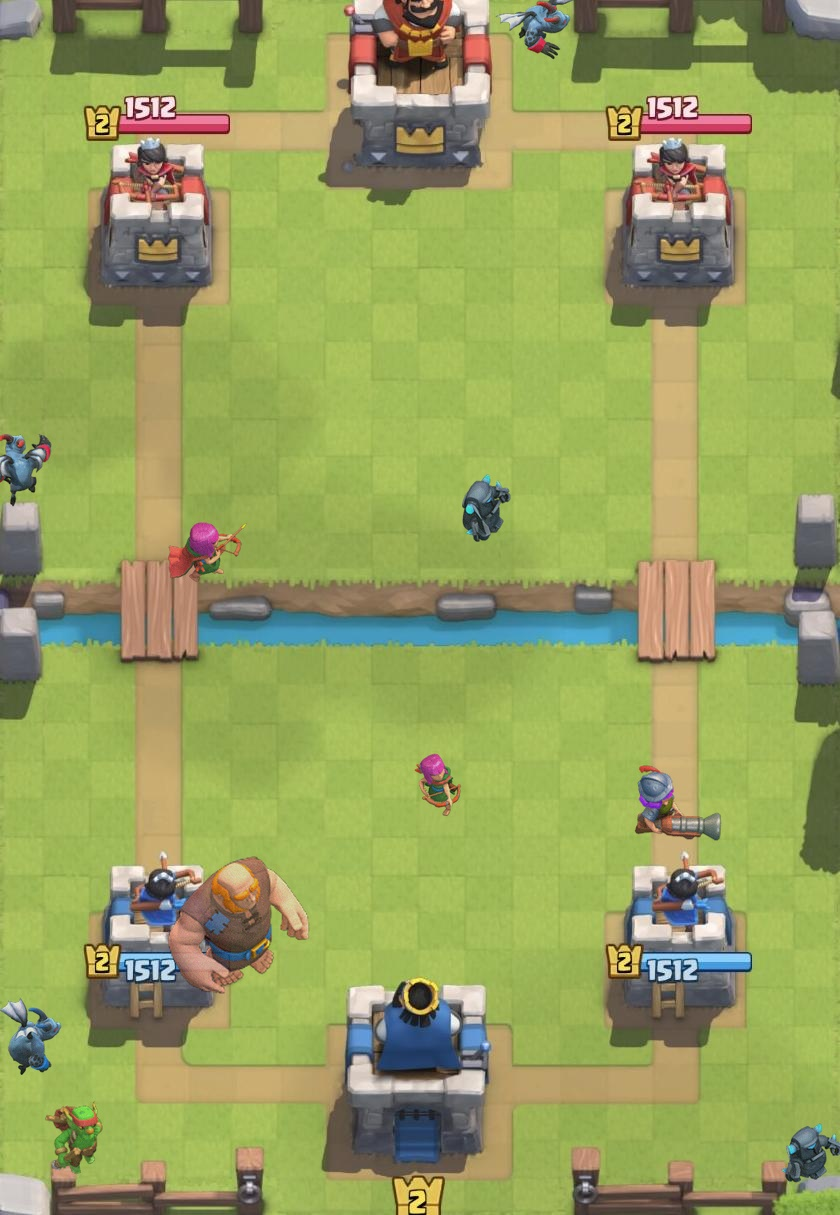archer_enemy: (168, 522, 247, 582), (414, 753, 461, 816)
giant_ally: (167, 856, 310, 994)
mekka_ally: (781, 1123, 840, 1183), (462, 474, 511, 542)
minion_ally: (0, 998, 62, 1075)
minion_enemy: (495, 0, 575, 60), (0, 434, 52, 507)
musketeer_enemy: (634, 765, 722, 841)
spoblin_enemy: (45, 1101, 103, 1174)
